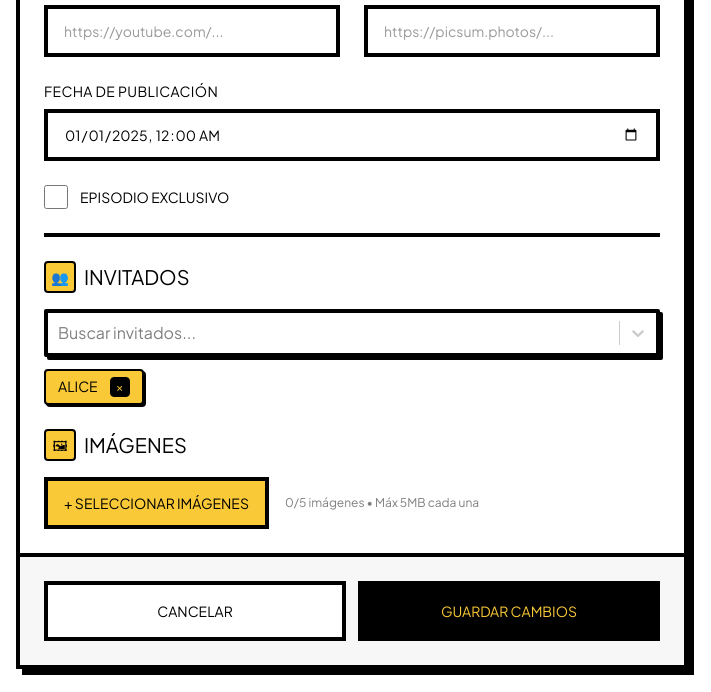
Test case: EpisodeForm › removes a guest from selection when X is clicked
(page scrolled)
Expected: the text "Alice" is shown, [58,378,98,396]
Click the remove button
Click the button "×" at (120, 387), box [110,377,130,397]
(page scrolled)
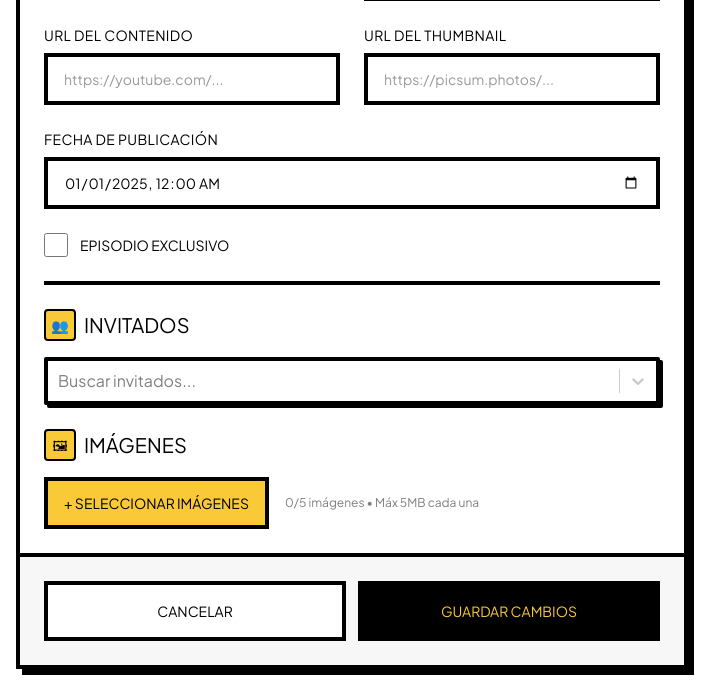
Expected: the text "Alice" is gone
